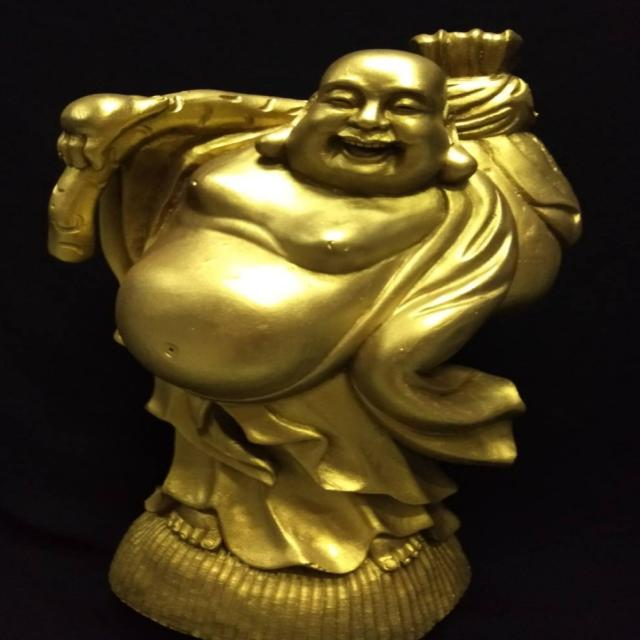Smiling Buddha: (84, 39, 535, 512)
